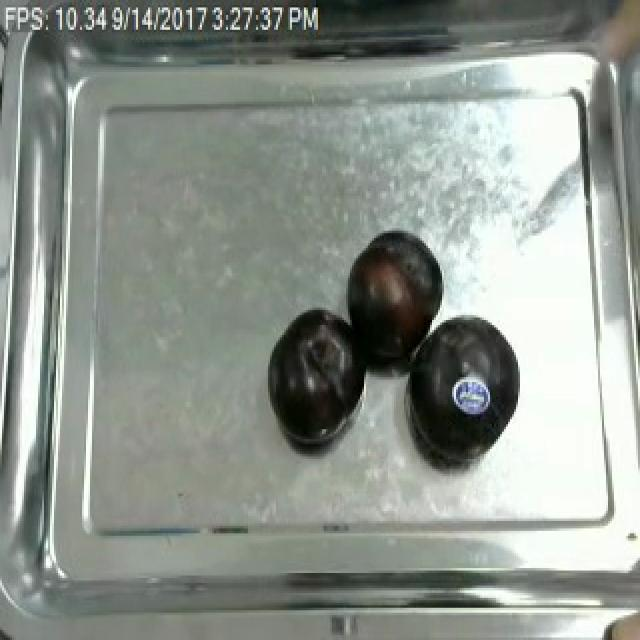Fruit: (400, 310, 528, 469), (342, 226, 450, 362), (262, 305, 364, 447), (594, 603, 640, 640)
